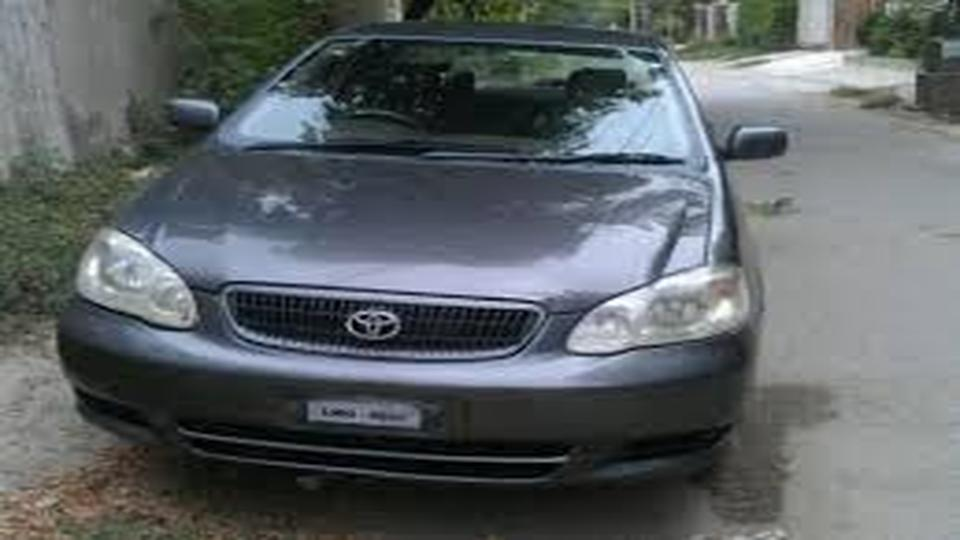NumberPlate: (300, 386, 453, 451)
